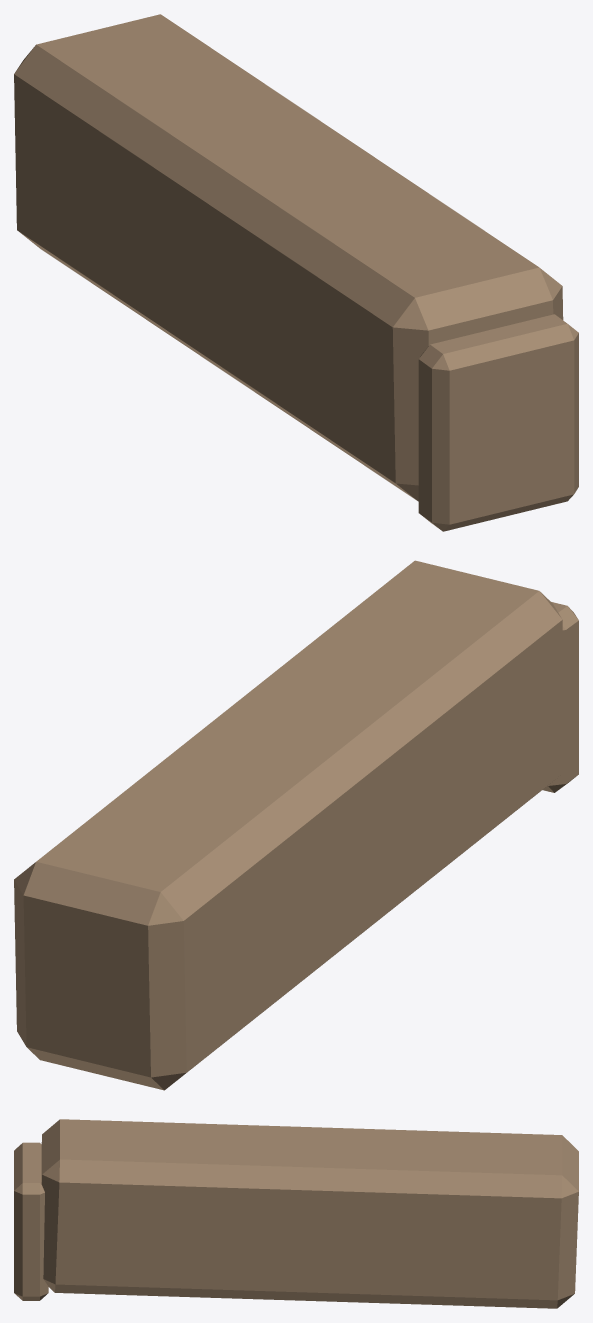
File: kiris_ucu.glb
3 views of the same model, one above another, from view 1: azimuth 30°, elevation 25°; view 2: azimuth 150°, elevation 25°; view 3: azimuth 270°, elevation 25° (orthographic). The views are drawn at different scales.
Visible parts, largest first — view 1: kiris_ucu; view 2: kiris_ucu; view 3: kiris_ucu.
Boxes of the visible parts, box(x1,y1,x2,y2) form: kiris_ucu: box(14, 14, 578, 531); kiris_ucu: box(14, 560, 578, 1090); kiris_ucu: box(14, 1119, 578, 1308).
Size of the model in its own units: 0.15 by 0.1901 by 0.6521.
